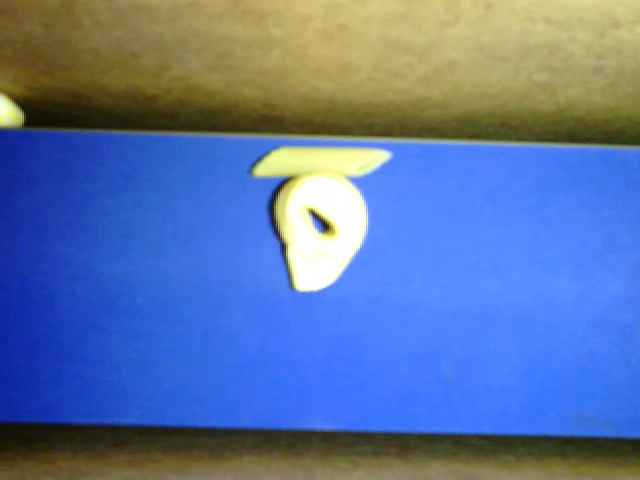penne: (249, 146, 393, 177)
tortellini: (271, 176, 369, 294)
